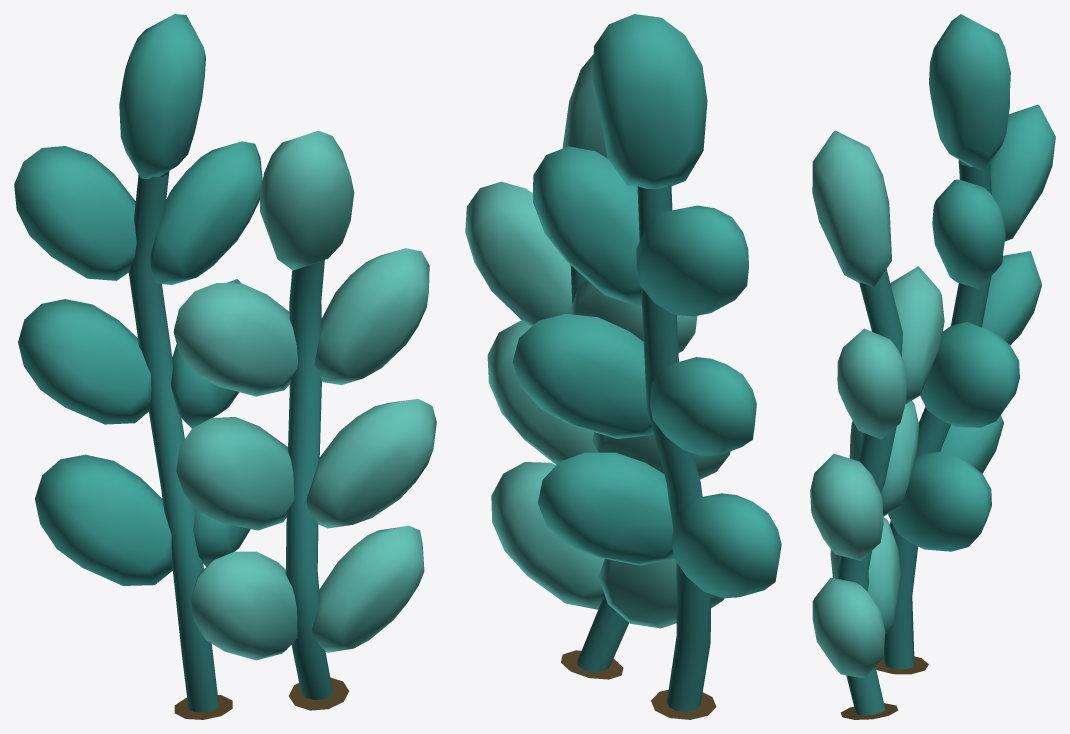
The model's file is Mu_Seaweed.fbx.
3 renders of one model, left to right at view 1: azimuth 30°, elevation 25°; view 2: azimuth 150°, elevation 25°; view 3: azimuth 270°, elevation 25°, orthographic. The views are drawn at different scales.
Parts seen in each view (by area): view 1: Mu_Seaweed_b, Mu_Seaweed_a, Mu_Seaweed_shadow; view 2: Mu_Seaweed_a, Mu_Seaweed_b, Mu_Seaweed_shadow; view 3: Mu_Seaweed_a, Mu_Seaweed_b, Mu_Seaweed_shadow.
Boxes of the visible parts, left/top/right/bottom form: Mu_Seaweed_b: left=173, top=130, right=436, bottom=699; Mu_Seaweed_a: left=14, top=14, right=262, bottom=712; Mu_Seaweed_shadow: left=174, top=677, right=349, bottom=719; Mu_Seaweed_a: left=512, top=14, right=781, bottom=711; Mu_Seaweed_b: left=465, top=54, right=730, bottom=672; Mu_Seaweed_shadow: left=561, top=650, right=716, bottom=719; Mu_Seaweed_a: left=884, top=14, right=1055, bottom=669; Mu_Seaweed_b: left=810, top=130, right=944, bottom=715; Mu_Seaweed_shadow: left=840, top=656, right=928, bottom=719.
Bounding box in the file's own units: 107 × 201 × 68.58.
2 materials, 1 textured.
